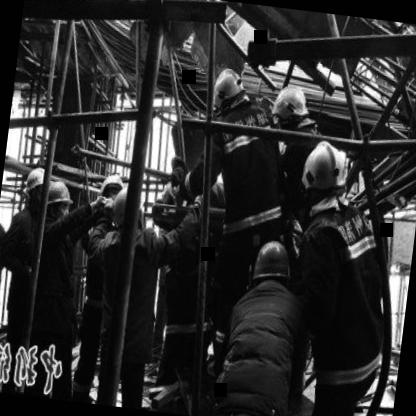helmet: (292, 134, 350, 209), (245, 236, 294, 302), (270, 82, 311, 136), (210, 68, 242, 119), (41, 178, 74, 224), (23, 164, 49, 212), (97, 172, 126, 211)
